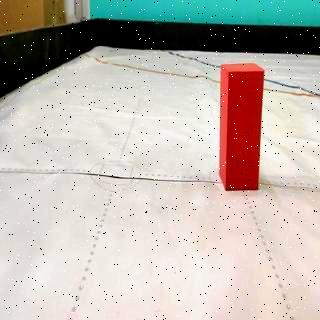redbox: (218, 63, 264, 191)
